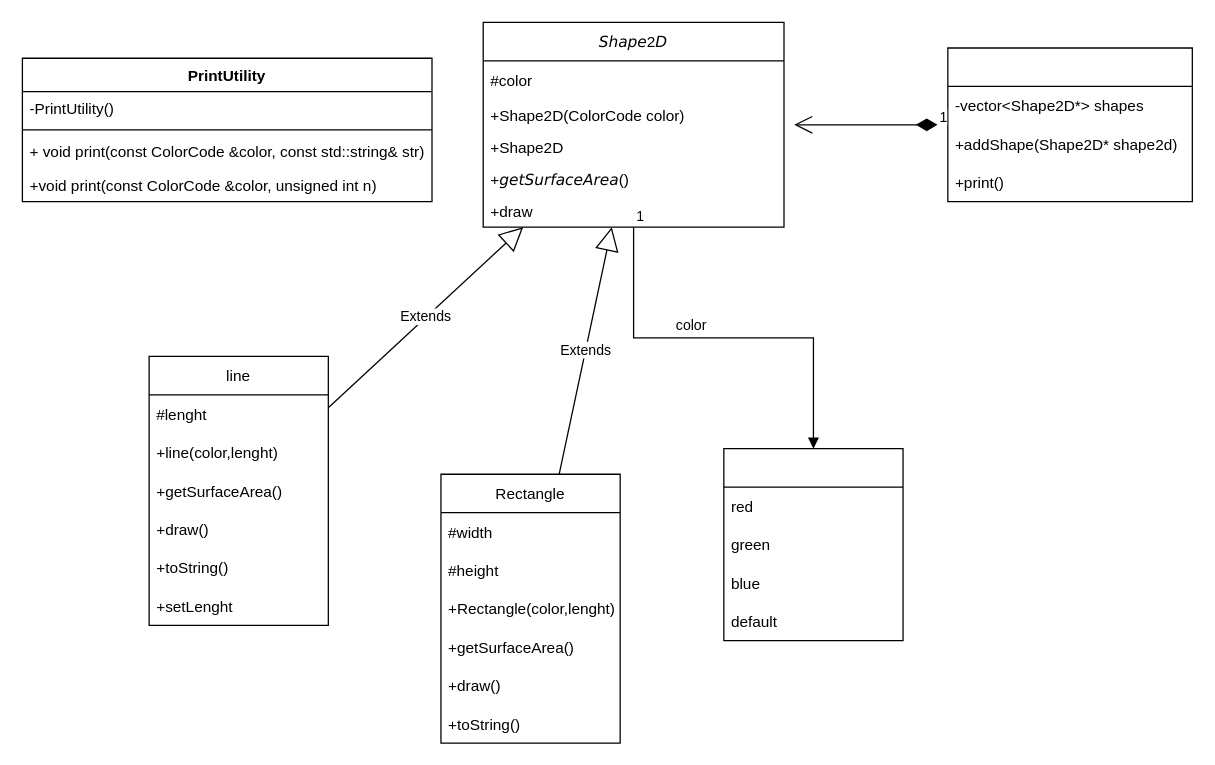
Image size: 1215x765. Some labels were removed from this diagram. The shapes that lost their labels are listed below. From the top down, each one's box as (x1, y1, x2, y2) in pixels, then its label:
(947, 47, 1192, 202): Canavas
(723, 447, 903, 641): ColorCode
